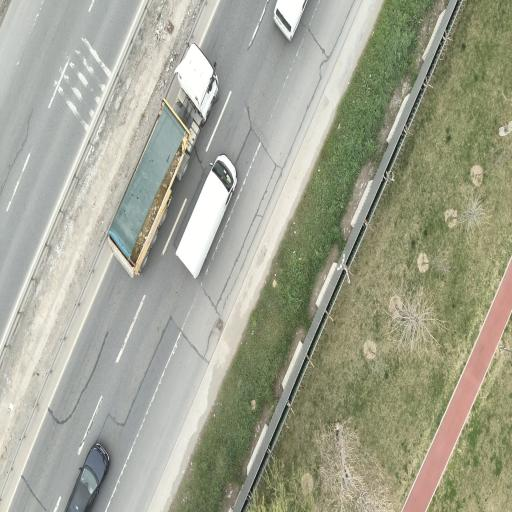car: (66, 444, 109, 511), (274, 0, 307, 40)
truck: (109, 45, 218, 276), (176, 155, 236, 278)
